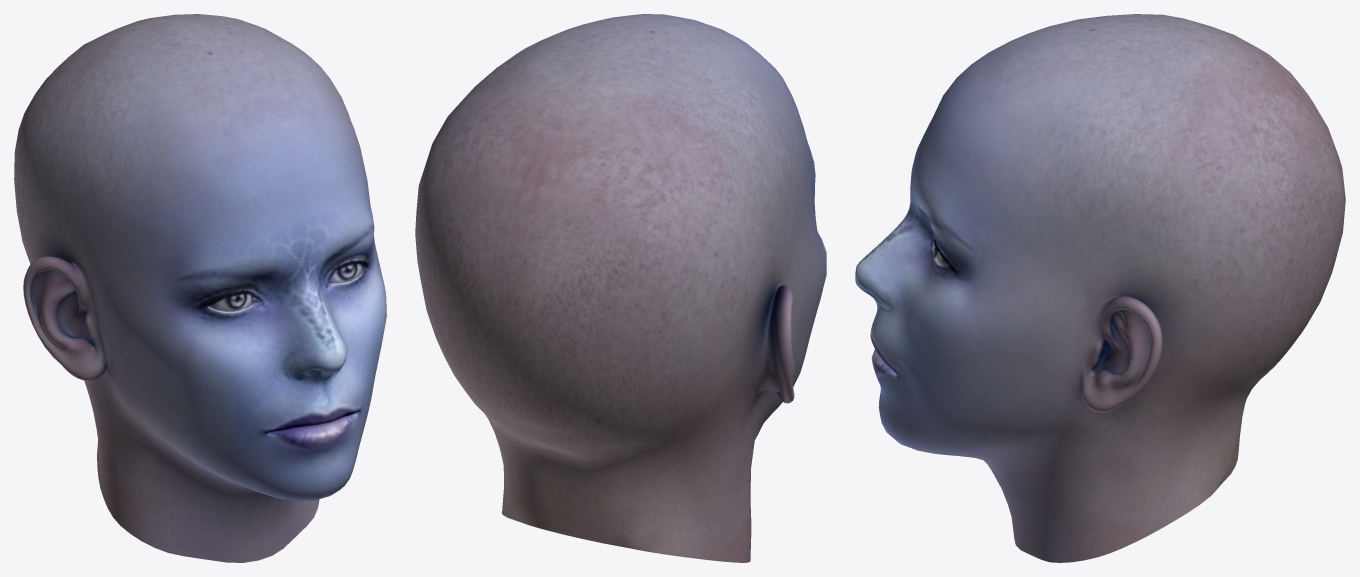
File: maia_face.glb
The picture shows the model from 3 angles, left to right: view 1: azimuth 30°, elevation 25°; view 2: azimuth 150°, elevation 25°; view 3: azimuth 270°, elevation 25°; orthographic projection. The views are drawn at different scales.
Parts seen in each view (by area): view 1: Head; view 2: Head; view 3: Head.
Part boxes in pixels (x1=…): Head: x1=14, y1=14, x2=386, y2=562; Head: x1=415, y1=14, x2=826, y2=562; Head: x1=855, y1=14, x2=1345, y2=562.
Size of the model in its own units: 0.1913 by 0.2703 by 0.2373.
Materials: 1 (1 with a texture image).
